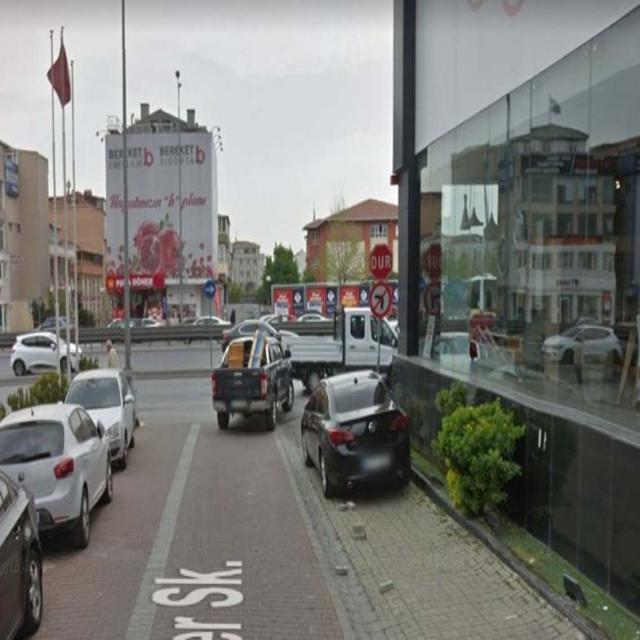dur: (369, 244, 393, 280)
sag: (204, 281, 216, 299)
soladonulmez: (370, 282, 391, 318)
